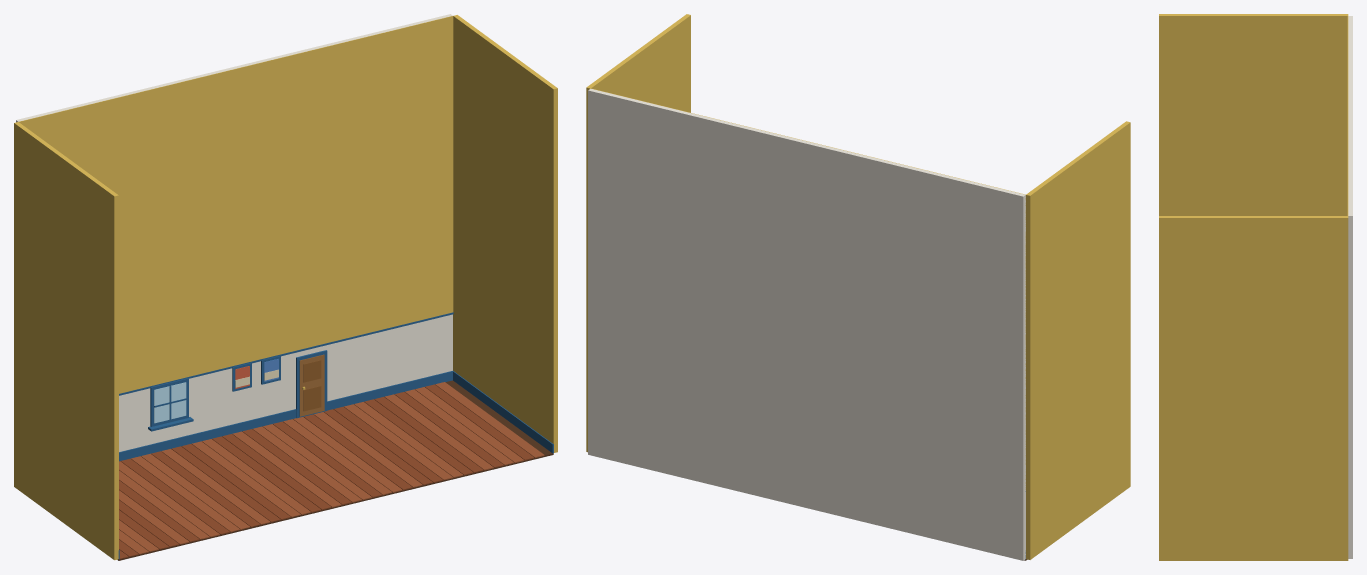
File: room_colonial_wood.glb
The picture shows the model from 3 angles, left to right: view 1: azimuth 30°, elevation 25°; view 2: azimuth 150°, elevation 25°; view 3: azimuth 270°, elevation 25°; orthographic projection. The views are drawn at different scales.
Parts seen in each view (by area): view 1: room; view 2: room; view 3: room.
Part boxes in pixels (x1,y1,x2,y2): room: [14, 14, 557, 560]; room: [586, 14, 1130, 560]; room: [1159, 14, 1352, 560].
Bounding box in the file's own units: 30.6 × 24.11 × 12.3.
